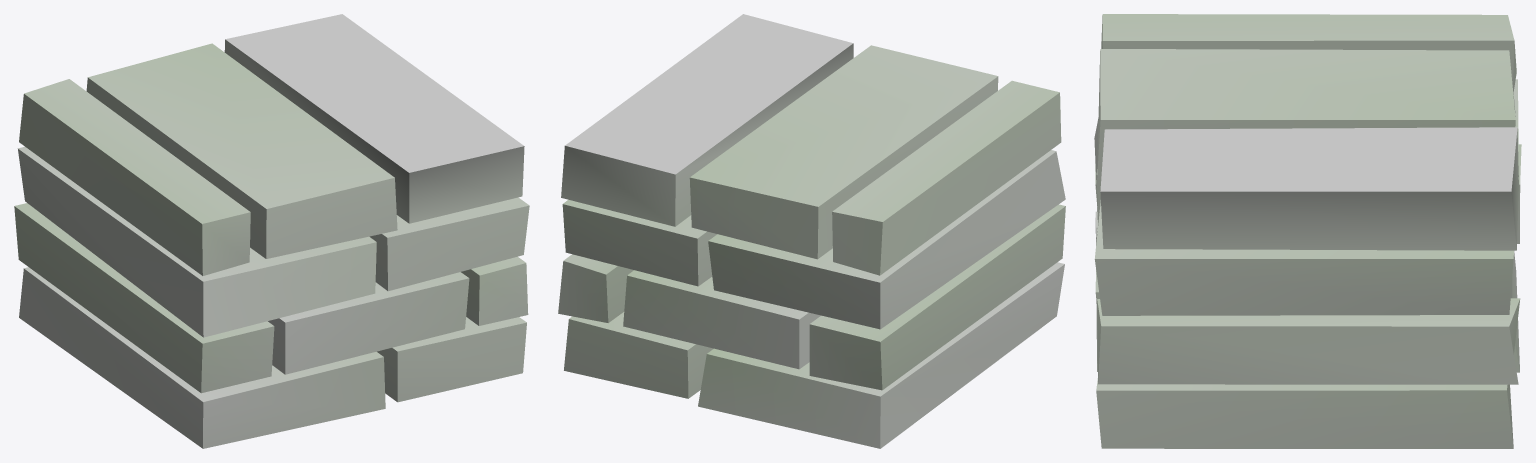
Rendered from step_100.glb.
The picture shows the model from 3 angles, left to right: view 1: azimuth 30°, elevation 25°; view 2: azimuth 150°, elevation 25°; view 3: azimuth 270°, elevation 25°; orthographic projection. The views are drawn at different scales.
Visible parts, largest first — view 1: Brick3_0_-47, Brick3_0_17, Brick2_0_-75, Brick0_0_-75, Brick3_0_-75, Brick1_0_-75, Brick1_0_-39, Brick2_0_8, Brick0_0_12, Brick1_0_49; view 2: Brick3_0_-47, Brick3_0_17, Brick0_0_-75, Brick3_0_-75, Brick2_0_-75, Brick1_0_-75, Brick1_0_-39, Brick2_0_8, Brick0_0_12, Brick1_0_49; view 3: Brick3_0_17, Brick3_0_-47, Brick1_0_49, Brick2_0_8, Brick0_0_12, Brick3_0_-75, Brick2_0_-75, Brick0_0_-75.
Part boxes in pixels (box(x1,y1,x2,y2)): Brick3_0_-47: box(86, 43, 397, 258); Brick3_0_17: box(224, 14, 524, 223); Brick2_0_-75: box(17, 146, 376, 337); Brick0_0_-75: box(19, 267, 385, 448); Brick3_0_-75: box(19, 79, 250, 275); Brick1_0_-75: box(14, 203, 274, 393); Brick1_0_-39: box(268, 272, 469, 374); Brick2_0_8: box(369, 197, 529, 291); Brick0_0_12: box(377, 317, 526, 402); Brick1_0_49: box(461, 256, 528, 325); Brick3_0_-47: box(689, 45, 998, 259); Brick3_0_17: box(561, 14, 853, 226); Brick0_0_-75: box(698, 262, 1064, 448); Brick3_0_-75: box(832, 80, 1061, 275); Brick2_0_-75: box(708, 150, 1065, 329); Brick1_0_-75: box(809, 204, 1065, 390); Brick1_0_-39: box(623, 270, 820, 369); Brick2_0_8: box(562, 199, 717, 286); Brick0_0_12: box(564, 312, 713, 398); Brick1_0_49: box(558, 254, 633, 322); Brick3_0_17: box(1100, 127, 1518, 250); Brick3_0_-47: box(1097, 49, 1515, 179); Brick1_0_49: box(1097, 298, 1520, 384); Brick2_0_8: box(1094, 199, 1513, 315); Brick0_0_12: box(1096, 378, 1513, 448); Brick3_0_-75: box(1101, 14, 1516, 92); Brick2_0_-75: box(1094, 79, 1518, 224); Brick0_0_-75: box(1095, 211, 1519, 372).
Bounding box in the file's own units: 1.46 × 0.9728 × 1.46.
